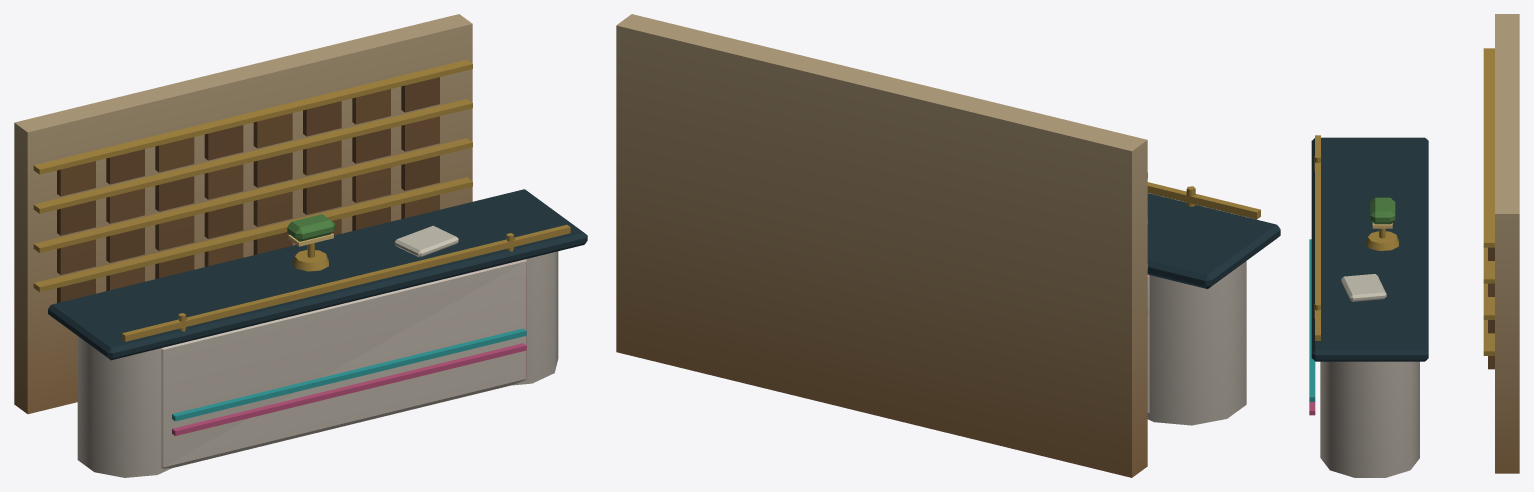
The model's file is lobby_reception_desk.glb.
3 renders of one model, left to right at view 1: azimuth 30°, elevation 25°; view 2: azimuth 150°, elevation 25°; view 3: azimuth 270°, elevation 25°, orthographic. The views are drawn at different scales.
Parts seen in each view (by area): view 1: lobby_reception_desk; view 2: lobby_reception_desk; view 3: lobby_reception_desk.
Part boxes in pixels (bbox=[...]): lobby_reception_desk: bbox=[14, 14, 587, 477]; lobby_reception_desk: bbox=[616, 14, 1280, 477]; lobby_reception_desk: bbox=[1309, 14, 1519, 477].
Bounding box in the file's own units: 4.1 × 2.3 × 1.69.
